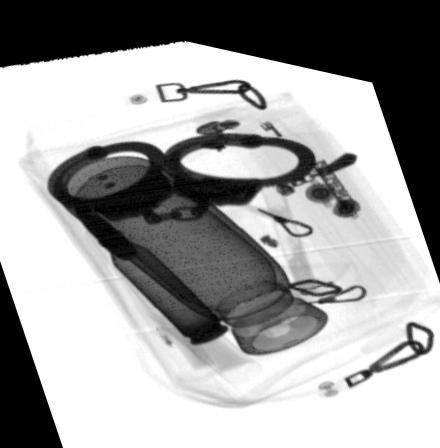Bullet: (71, 197, 233, 338)
HandCuffs: (45, 122, 314, 216)
